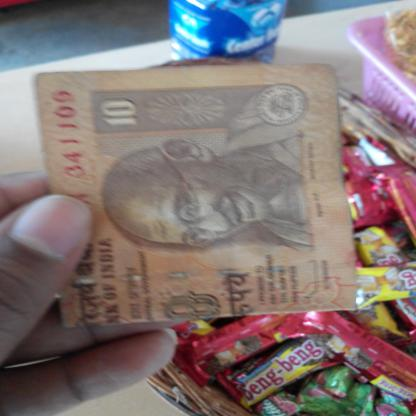Old10Front: (34, 62, 356, 327)
